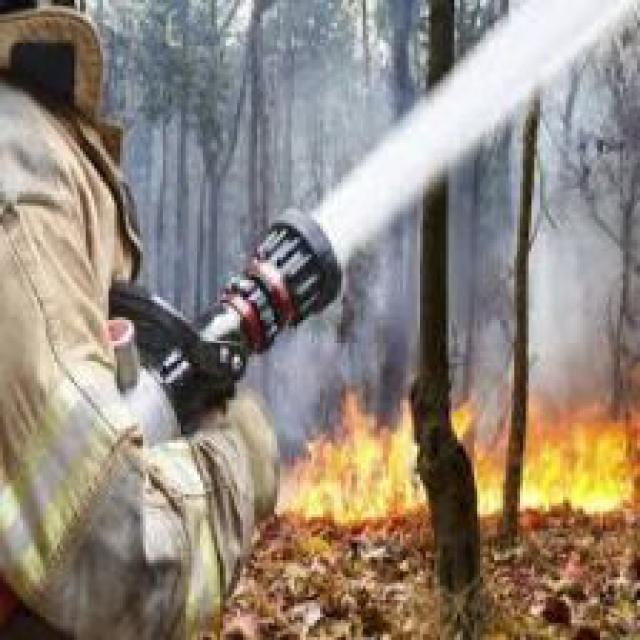fire: (460, 391, 637, 520), (288, 394, 432, 517)
